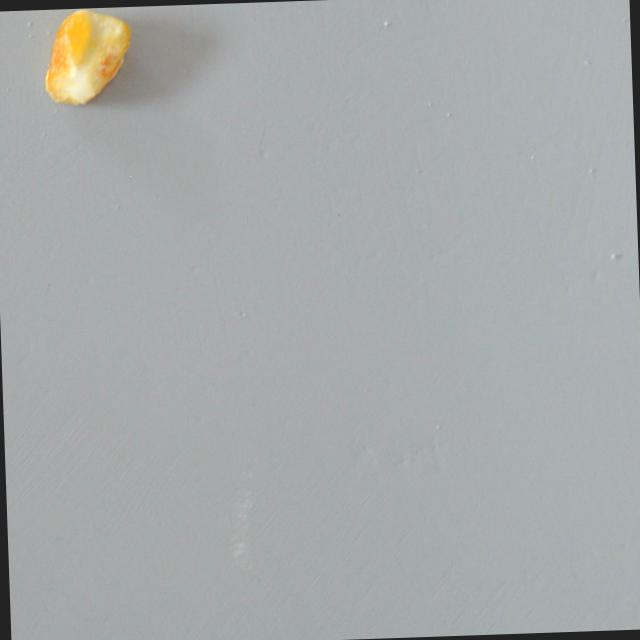pelicula: (43, 7, 125, 110)
